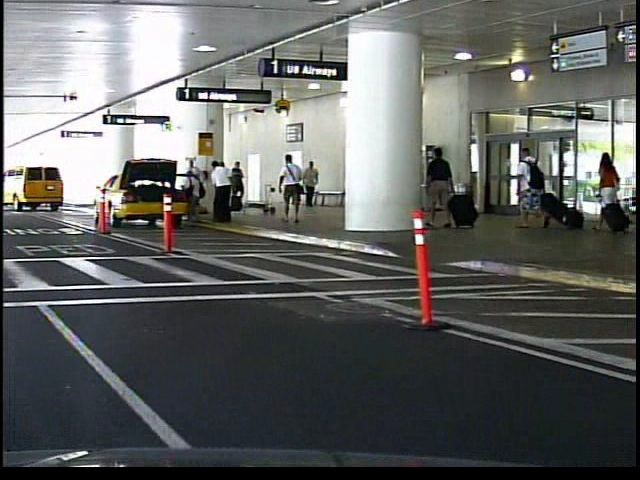person: (509, 142, 548, 230), (587, 145, 622, 231), (419, 142, 450, 229), (272, 150, 304, 224), (300, 160, 317, 208)
